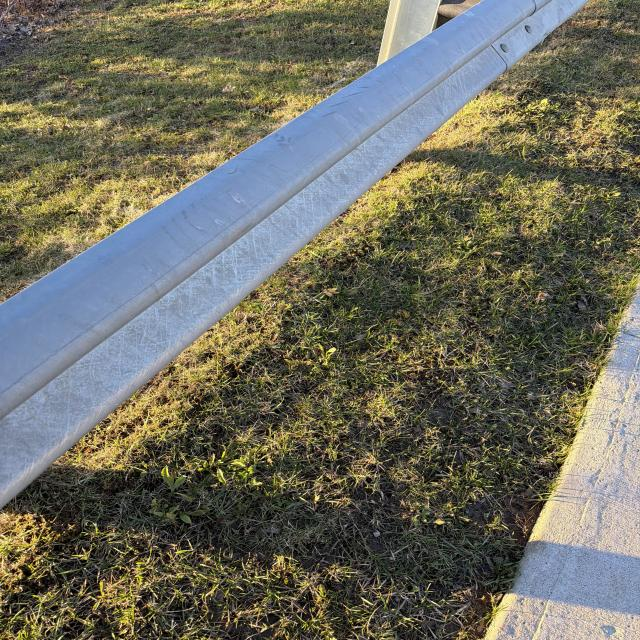Guard rail: (24, 18, 591, 429)
